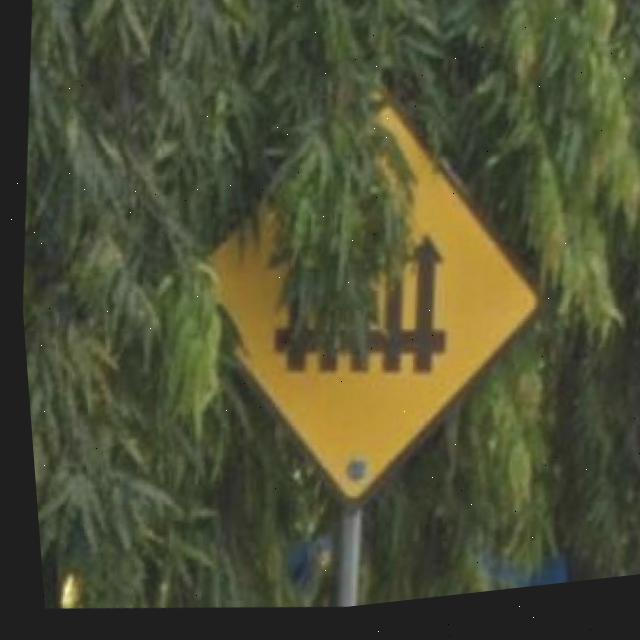Peringatan Perlintasan Kereta Api: (385, 148, 554, 454)
